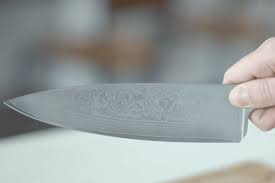knife: (1, 78, 271, 146)
